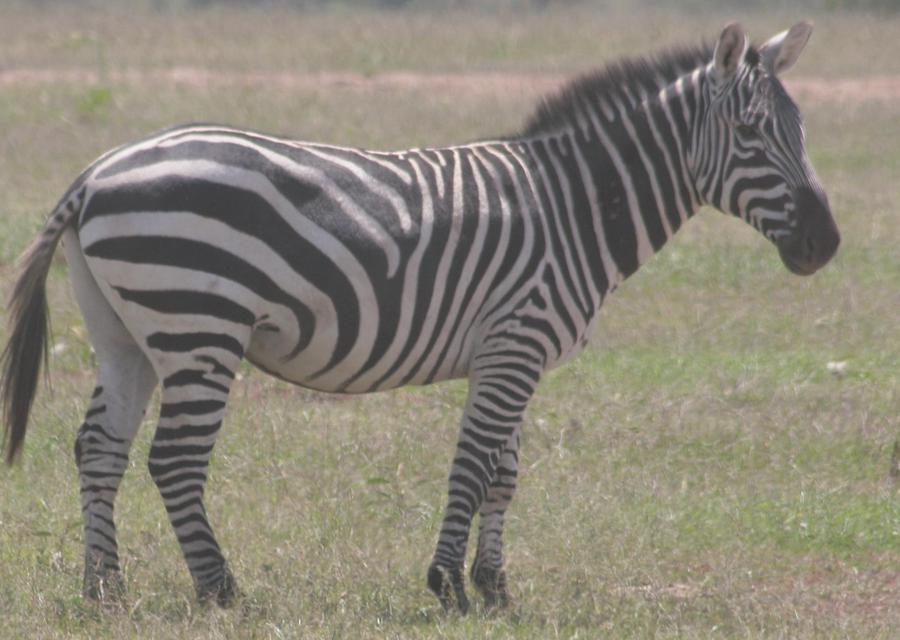zebra_plains: (103, 104, 608, 405)
